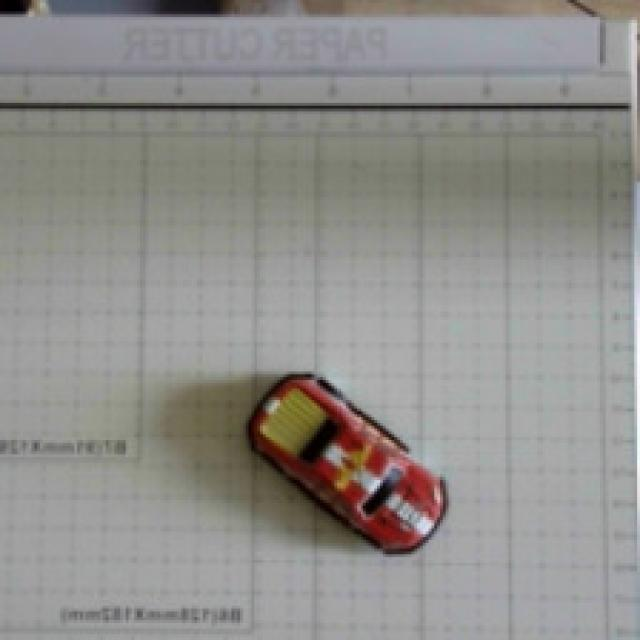Red Car: (205, 337, 470, 586)
